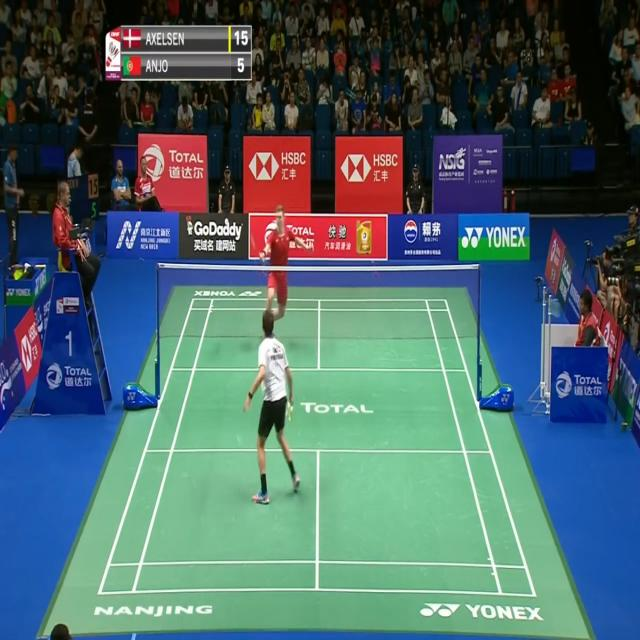Player1: (241, 301, 304, 512)
Player2: (250, 199, 316, 335)
